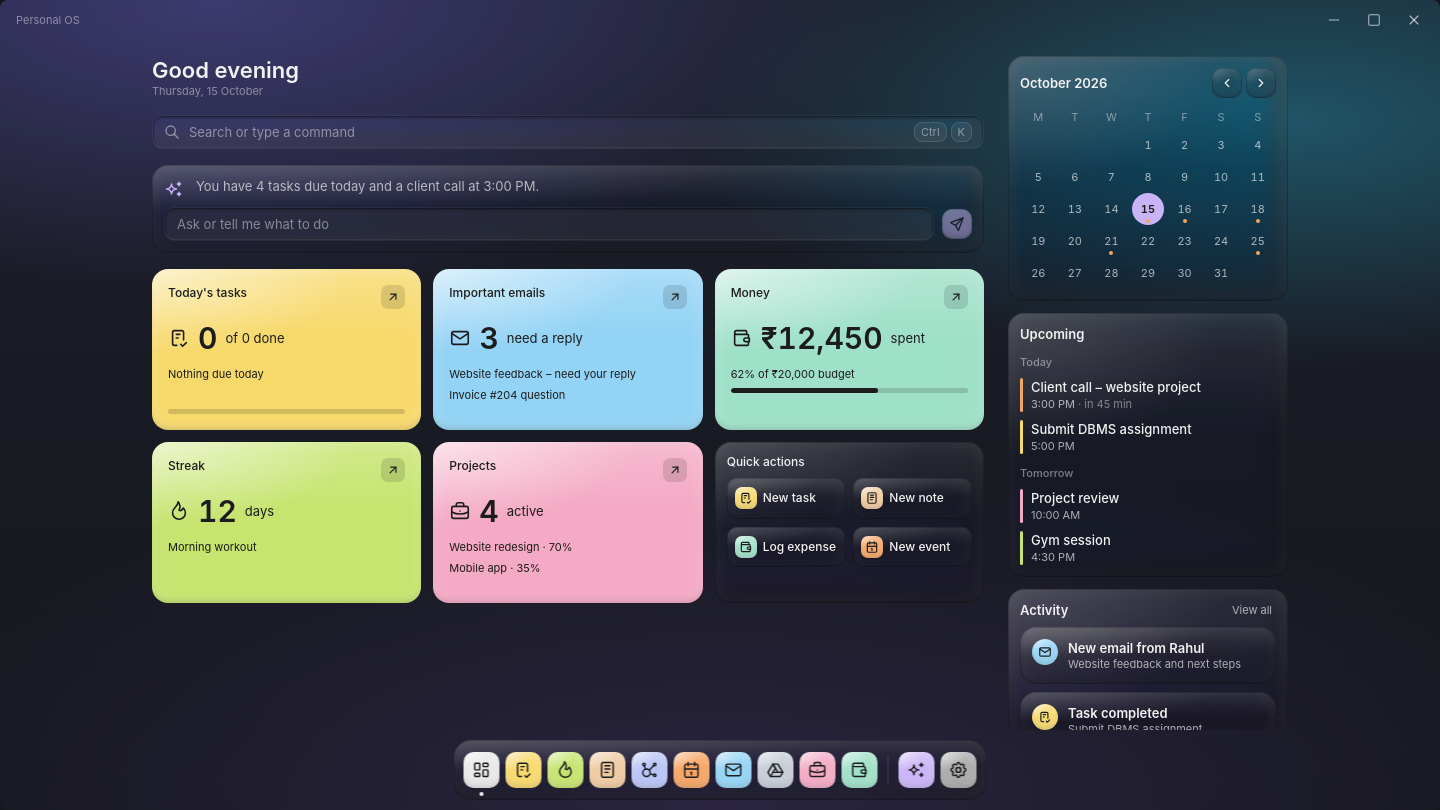
Test: Dashboard tile buttons open the module › Important emails → Mail
The width and height of the screenshot is (1440, 810).
Click the button named "Open Mail" at (675, 297), box x1=663 y1=285 x2=687 y2=309
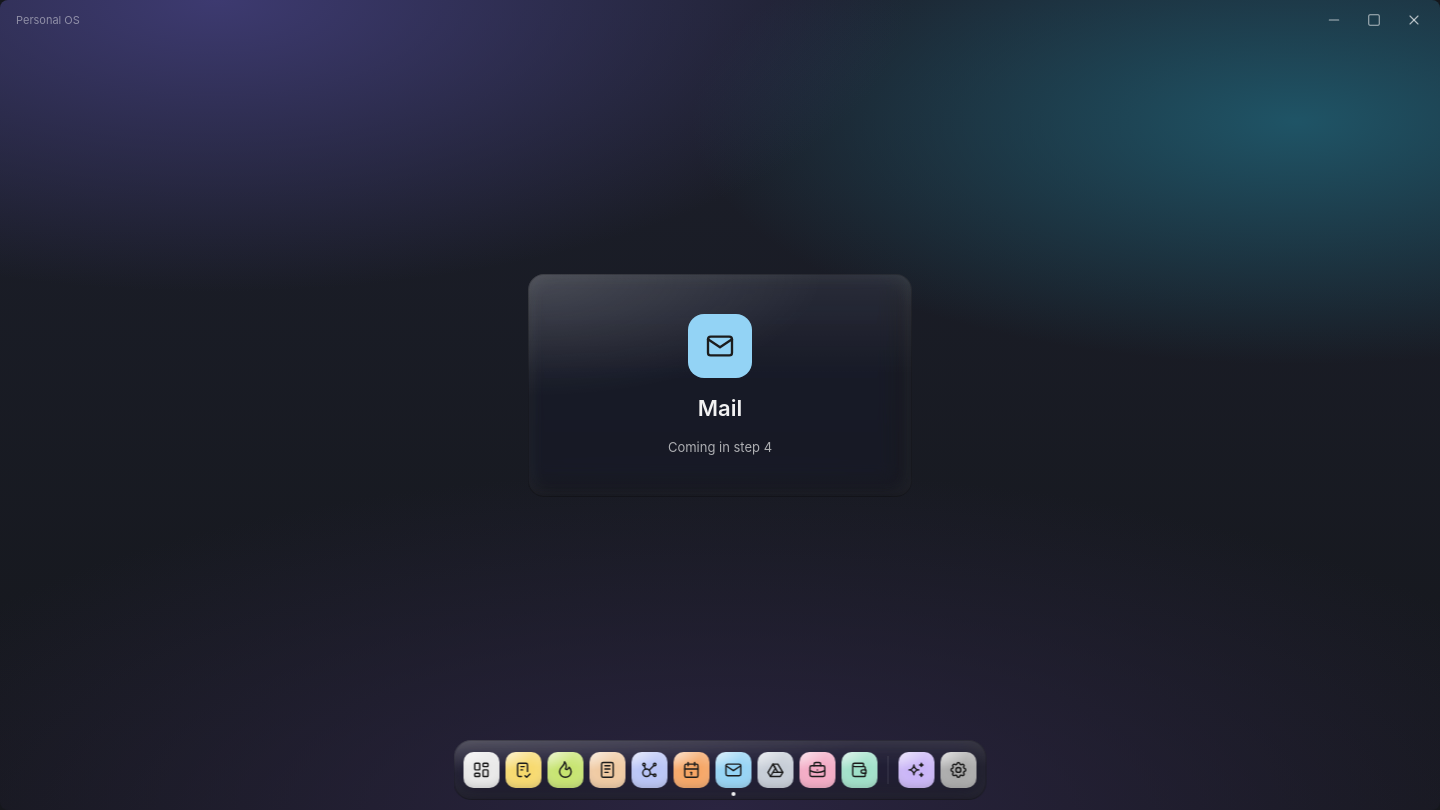
Now the heading "Mail" is shown, box x1=698 y1=394 x2=742 y2=422
